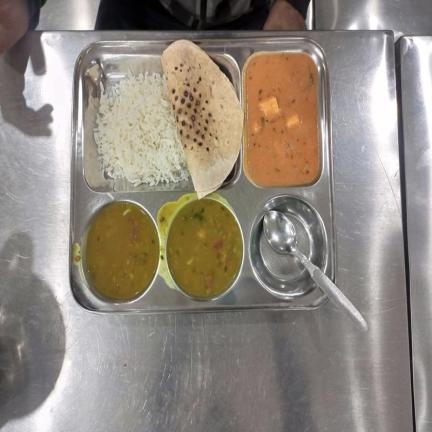Dal: (167, 198, 244, 297), (86, 205, 158, 300)
Paneer: (245, 51, 318, 186)
Plate: (68, 36, 338, 314)
Rice: (93, 66, 191, 186)
Roti: (160, 40, 246, 199)
